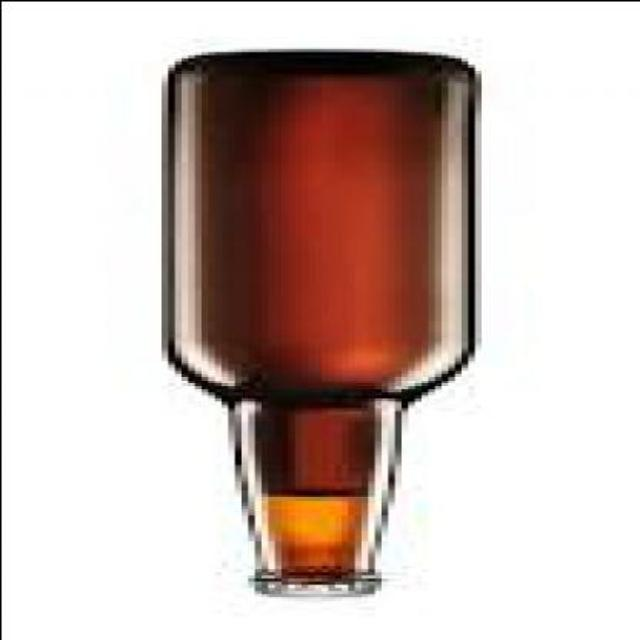GLASS: (173, 54, 481, 583)
METAL: (267, 580, 387, 602)
